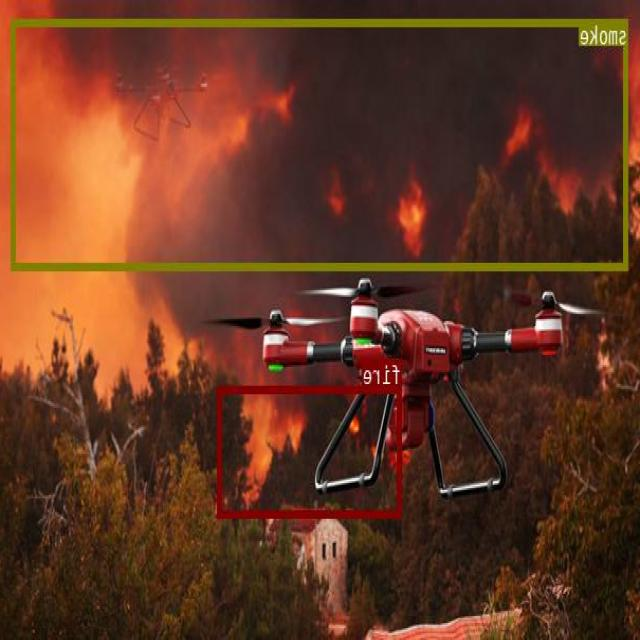fire: (218, 385, 402, 516)
smoke: (12, 18, 629, 269)
